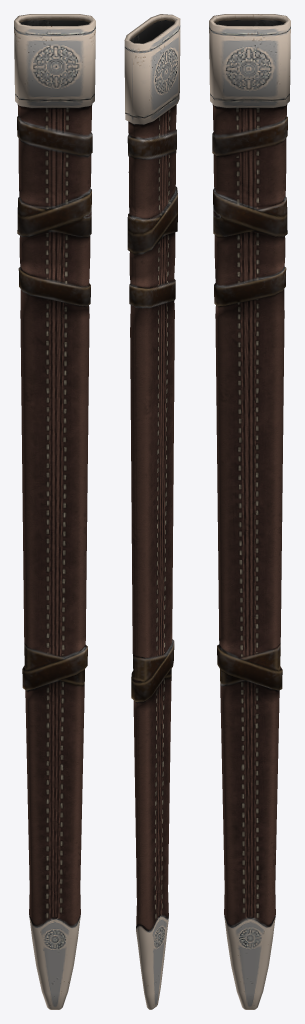
File: SM_scabbards_05.fbx
3 renders of one model, left to right at view 1: azimuth 90°, elevation 25°; view 2: azimuth 150°, elevation 25°; view 3: azimuth 270°, elevation 25°, orthographic.
Visible parts, largest first — view 1: SM_scabbards_05_LOD0; view 2: SM_scabbards_05_LOD0; view 3: SM_scabbards_05_LOD0.
Boxes of the visible parts, box(x1,y1,x2,y2) form: SM_scabbards_05_LOD0: box(14, 14, 95, 1009); SM_scabbards_05_LOD0: box(124, 14, 180, 1009); SM_scabbards_05_LOD0: box(209, 14, 290, 1009).
Bounding box in the file's own units: 3.1 × 7.92 × 105.
1 material, 1 textured.
